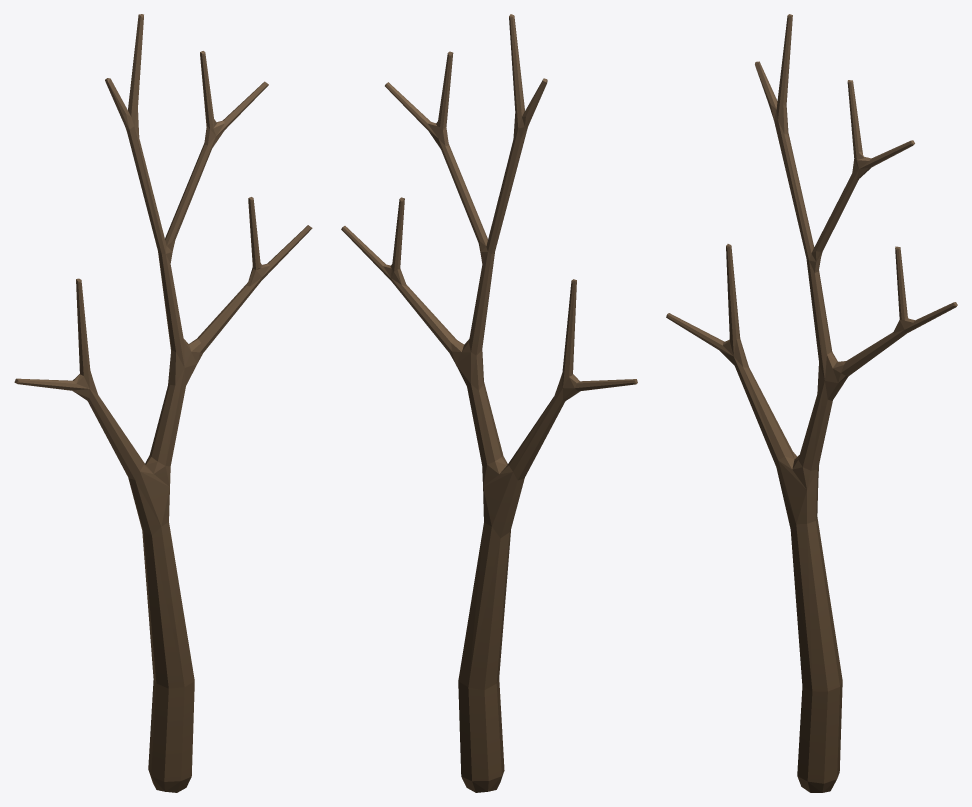
The model's file is Branch_01.fbx.
3 views of the same model, side by side, from view 1: azimuth 30°, elevation 25°; view 2: azimuth 150°, elevation 25°; view 3: azimuth 330°, elevation 25° (orthographic).
Visible parts, largest first — view 1: Branch_01_LOD0; view 2: Branch_01_LOD0; view 3: Branch_01_LOD0.
Boxes of the visible parts, x1,y1,x2,y2 form: Branch_01_LOD0: [14, 14, 312, 792]; Branch_01_LOD0: [341, 14, 637, 792]; Branch_01_LOD0: [666, 14, 957, 792].
Size of what is drawn, in the model's own units: 0.3971 by 1 by 0.0507.
